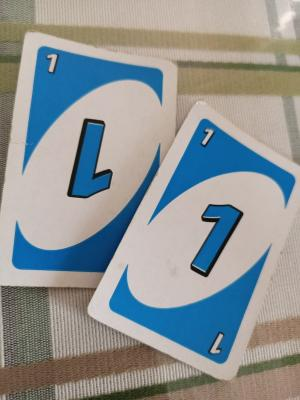blue: (31, 59, 156, 277), (166, 149, 241, 332)
num_1: (202, 318, 233, 361), (196, 121, 220, 153), (41, 49, 64, 76)
